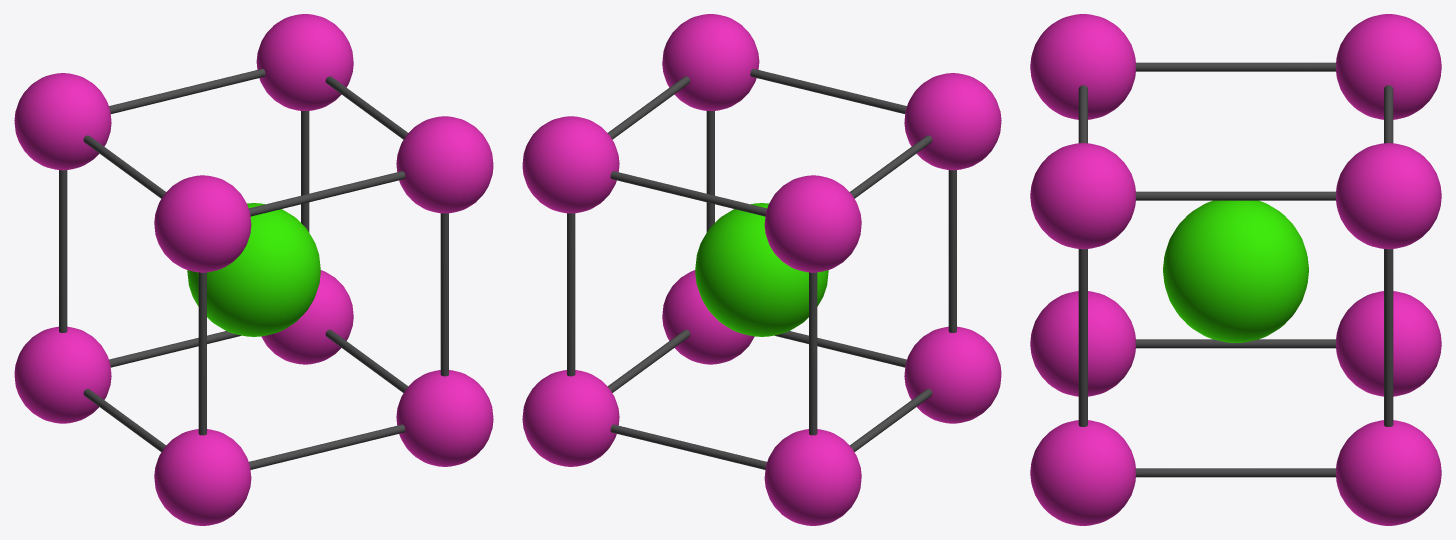
File: BCC.glb
3 renders of one model, left to right at view 1: azimuth 30°, elevation 25°; view 2: azimuth 150°, elevation 25°; view 3: azimuth 270°, elevation 25°, orthographic. The views are drawn at different scales.
Visible parts, largest first — view 1: Sphere, Sphere.006, Sphere.007, Sphere.002, Sphere.003, Sphere.005, Sphere.001, Sphere.008, Sphere.004, Cylinder.002, Cylinder, Cylinder.003 (+9 smaller); view 2: Sphere, Sphere.005, Sphere.008, Sphere.001, Sphere.004, Sphere.006, Sphere.002, Sphere.007, Sphere.003, Cylinder.003, Cylinder.001, Cylinder.002 (+9 smaller); view 3: Sphere, Sphere.001, Sphere.002, Sphere.003, Sphere.004, Sphere.005, Sphere.006, Sphere.007, Sphere.008, Cylinder.004, Cylinder.006, Cylinder.007 (+5 smaller).
Boxes of the visible parts, x1,y1,x2,y2 form: Sphere: (187, 203, 320, 336); Sphere.006: (154, 175, 251, 272); Sphere.007: (154, 429, 251, 525); Sphere.002: (396, 116, 493, 213); Sphere.003: (396, 370, 493, 466); Sphere.005: (14, 73, 111, 170); Sphere.001: (256, 14, 353, 110); Sphere.008: (14, 326, 111, 423); Sphere.004: (261, 270, 353, 364); Cylinder.002: (198, 272, 206, 435); Cylinder: (440, 213, 448, 376); Cylinder.003: (59, 170, 67, 332); Sphere: (695, 203, 828, 336); Sphere.005: (764, 175, 861, 272); Sphere.008: (764, 429, 861, 525); Sphere.001: (522, 116, 619, 213); Sphere.004: (522, 370, 619, 466); Sphere.006: (904, 73, 1001, 170); Sphere.002: (662, 14, 759, 110); Sphere.007: (904, 326, 1001, 423); Sphere.003: (662, 270, 754, 364); Cylinder.003: (809, 272, 817, 435); Cylinder.001: (567, 213, 575, 376); Cylinder.002: (948, 170, 956, 332); Sphere: (1163, 200, 1308, 342); Sphere.001: (1336, 143, 1441, 249); Sphere.002: (1030, 143, 1135, 249); Sphere.003: (1030, 420, 1135, 525); Sphere.004: (1336, 420, 1441, 525); Sphere.005: (1336, 14, 1441, 119); Sphere.006: (1030, 14, 1135, 119); Sphere.007: (1030, 291, 1135, 396); Sphere.008: (1336, 291, 1441, 396); Cylinder.004: (1135, 62, 1336, 71); Cylinder.006: (1135, 468, 1336, 477); Cylinder.007: (1135, 191, 1336, 200).
Bounding box in the file's own units: 2.7 × 2.7 × 2.7.
